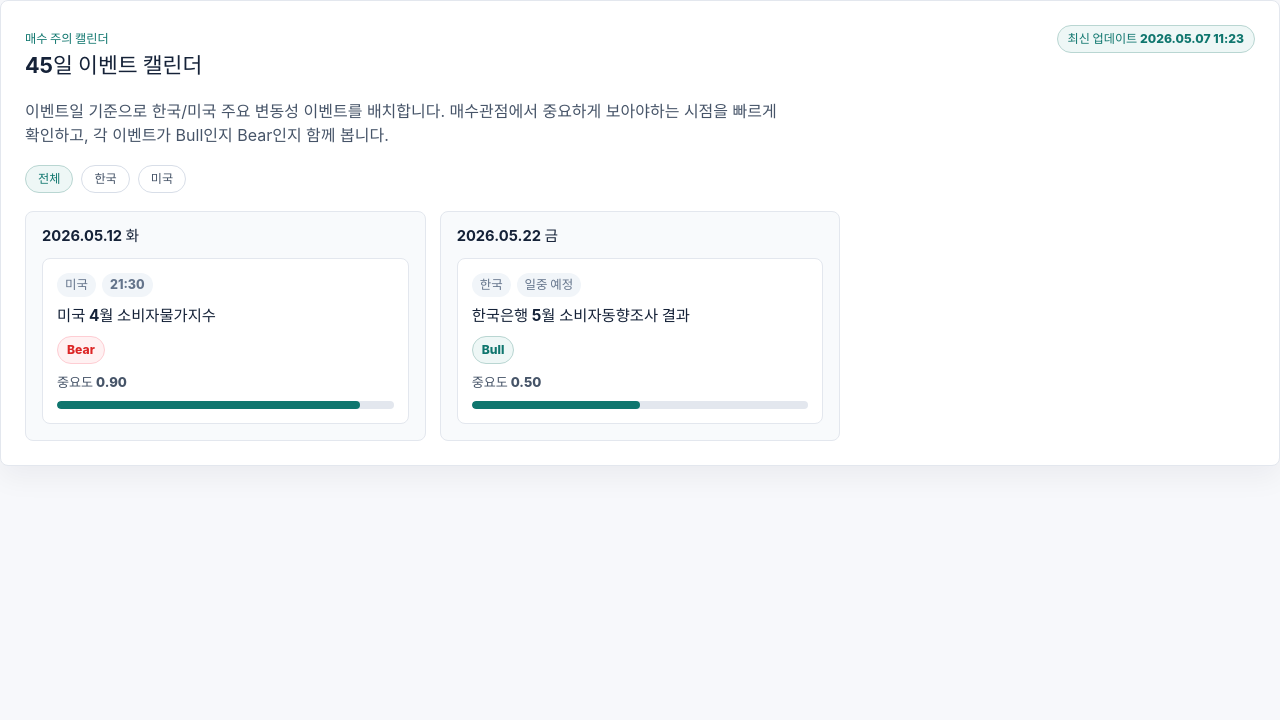
Test: VolatilityCalendarPage › opens and closes an event detail modal
Click the button "미국 21:30 미국 4월 소비자물가지수 Bear 중요도 0.90" at (76, 285), box [42,258,409,424]
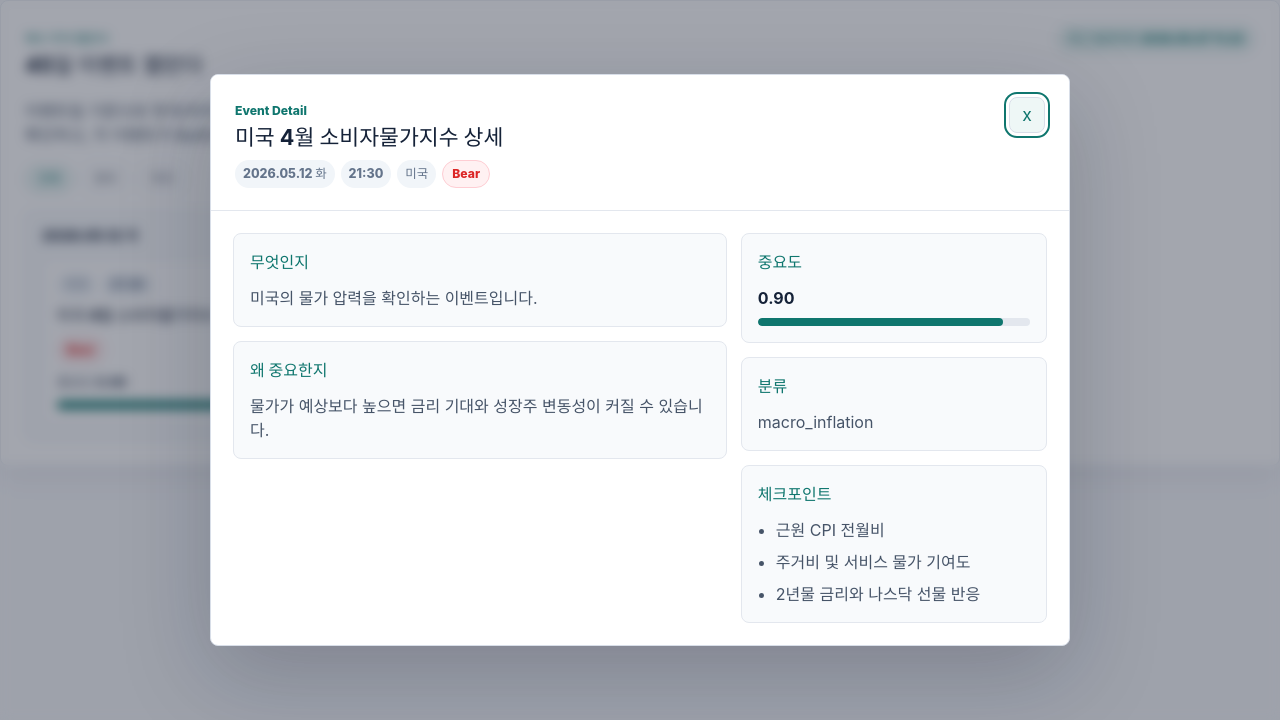
Now the text "Event Detail" is shown, box [235,102,307,118]
Now the text "2026.05.12 화" is shown, box [235,160,335,188]
Now the text "21:30" is shown, box [341,160,391,188]
Click the button named "이벤트 상세 닫기" at (1027, 114), box [1009,96,1045,132]
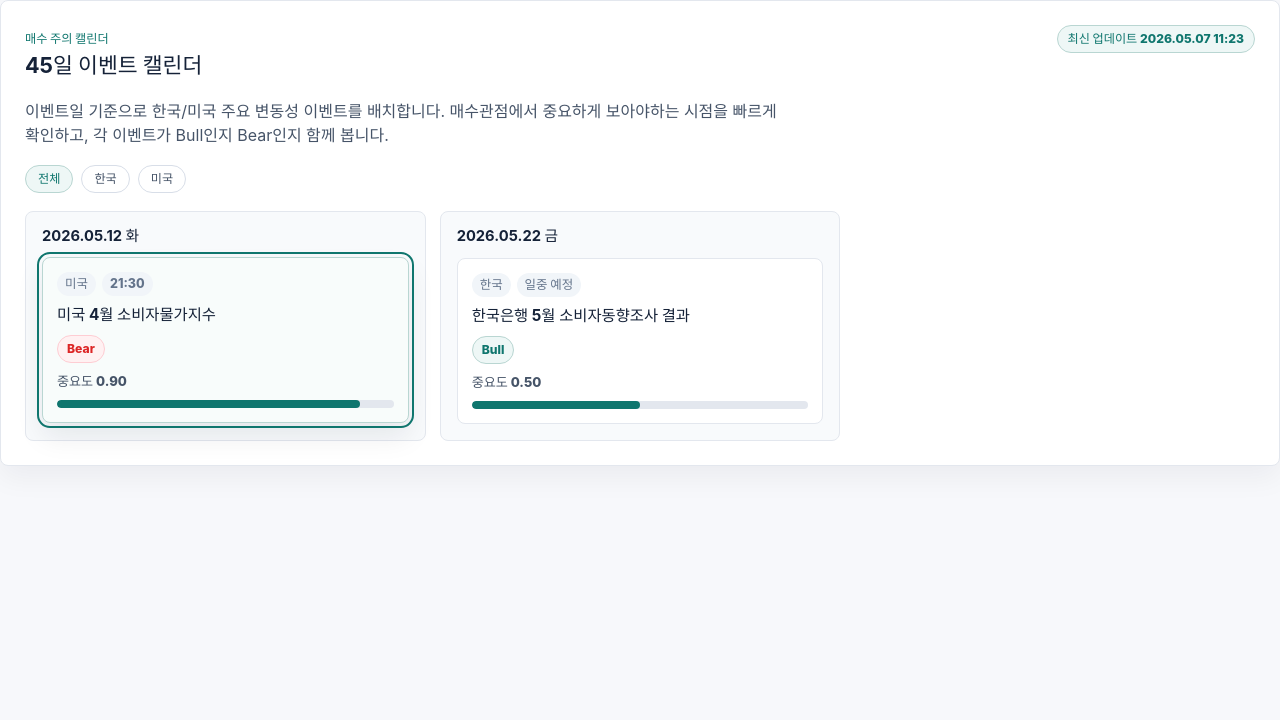
Now the dialog is gone
